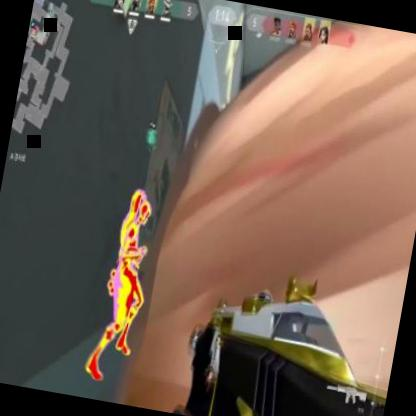enemy: (80, 179, 164, 385)
enemy_head: (136, 198, 154, 228)
